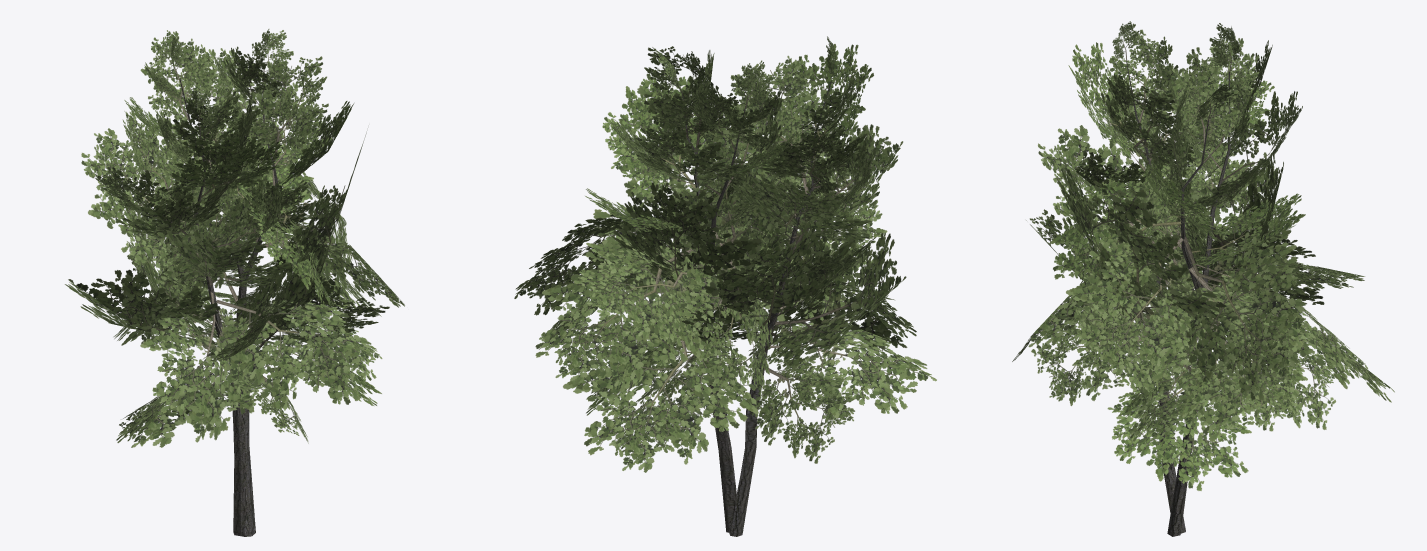
The model's file is Tree5.gltf.
3 views of the same model, side by side, from view 1: azimuth 30°, elevation 25°; view 2: azimuth 150°, elevation 25°; view 3: azimuth 270°, elevation 25° (orthographic). The views are drawn at different scales.
Parts seen in each view (by area): view 1: Tree-02-1_4; view 2: Tree-02-1_4; view 3: Tree-02-1_4.
Boxes of the visible parts, bbox=[...] form: Tree-02-1_4: bbox=[65, 29, 404, 536]; Tree-02-1_4: bbox=[514, 36, 936, 536]; Tree-02-1_4: bbox=[1012, 21, 1394, 536].
Bounding box in the file's own units: 170 × 223 × 172.
6 materials, 6 textured.
